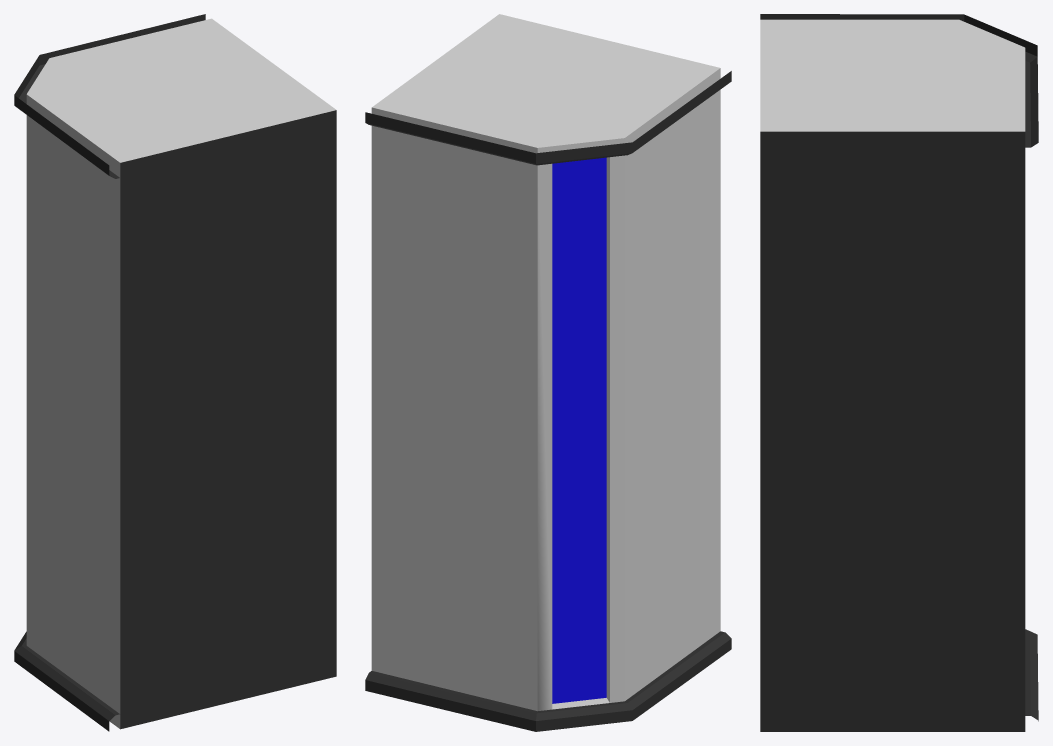
Rendered from Pillar_Corner.fbx.
The picture shows the model from 3 angles, left to right: view 1: azimuth 30°, elevation 25°; view 2: azimuth 150°, elevation 25°; view 3: azimuth 270°, elevation 25°; orthographic projection. The views are drawn at different scales.
Visible parts, largest first — view 1: Corner_Pillar; view 2: Corner_Pillar; view 3: Corner_Pillar.
Boxes of the visible parts, x1,y1,x2,y2 form: Corner_Pillar: (14, 14, 336, 731); Corner_Pillar: (365, 14, 731, 731); Corner_Pillar: (760, 14, 1038, 731).
Size of the model in its own units: 3.15 by 7.5 by 3.15.
